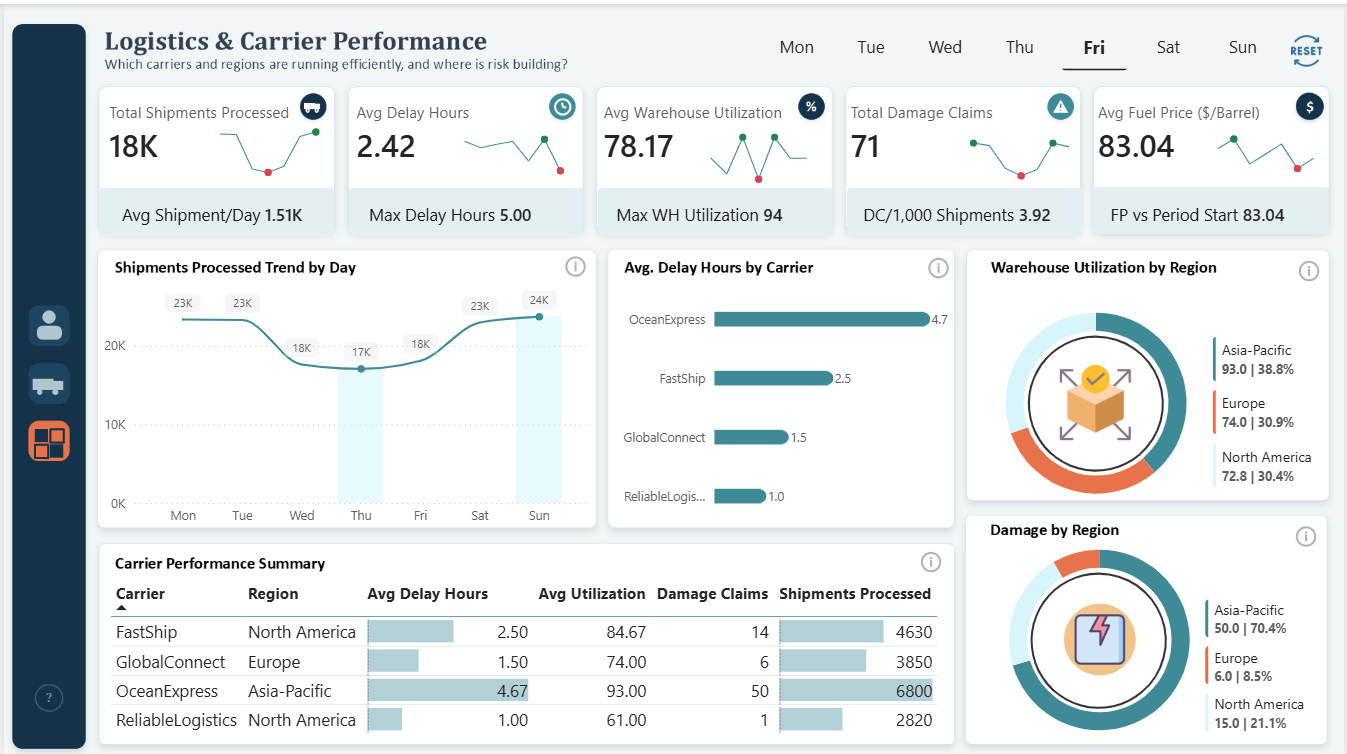

This screenshot's page, from the dashboard's own definition file:
{"tool":"powerbi","page":{"name":"Logistic","canvas":[1280,720],"ordinal":2},"visuals":[{"type":"cardVisual","fields":{"Data":["Measures_.Total Shipments Processed","Measures_.Avg Delay Hours","Measures_.Avg Warehouse Utilization %","Measures_.Total Damage Claims","Measures_.Avg Fuel Price ($/Barrel)"]},"box":[71.6,63.4,1208.5,206.6],"z":0},{"type":"lineClusteredColumnComboChart","fields":{"Category":["Calendar.WeekdayShort"],"Y":["select"],"Y2":["Measures_.Total Shipments Processed","select1"]},"box":[90.9,255.9,470.9,249.8],"z":1000},{"type":"clusteredBarChart","fields":{"Category":["Dim_Carrier.carrier"],"Y":["Measures_.Avg Delay Hours"]},"box":[573.9,243.8,364.9,277.1],"z":2000},{"type":"donutChart","fields":{"Category":["Dim_Region.region"],"Y":["Measures_.Avg Warehouse Utilization %"]},"box":[870.2,268.4,343.2,226.1],"z":3000,"group":"g1"},{"type":"advancedSlicerVisual","fields":{"Values":["Dim_Region.region"]},"box":[1148.3,312.3,128.5,156.1],"z":3000},{"type":"donutChart","fields":{"Category":["Dim_Region.region"],"Y":["Measures_.Total Damage Claims"]},"box":[873.7,494.4,343.7,225.6],"z":4000},{"type":"donutChart","fields":{"Category":["Dim_Region.region"],"Y":["Measures_.Avg Warehouse Utilization %"]},"box":[907.6,296.1,268.4,172.4],"z":5000,"group":"g1"},{"type":"tableEx","fields":{"Values":["Fact_LogisticsDaily.carrier","Fact_LogisticsDaily.region","Measures_.Avg Delay Hours","Measures_.Avg Warehouse Utilization %","Measures_.Total Damage Claims","Measures_.Total Shipments Processed"]},"box":[96,544.3,814.9,175.7],"z":5000},{"type":"donutChart","fields":{"Category":["Dim_Region.region"],"Y":["Measures_.Avg Warehouse Utilization %"]},"box":[911.6,520.9,268,172.6],"z":6000},{"type":"group","id":"g1","title":"Group 1","box":[870.2,268.4,343.2,226.1],"z":7000},{"type":"advancedSlicerVisual","fields":{"Values":["Dim_Region.region"]},"box":[1141.7,563.3,128.7,139.3],"z":8000},{"type":"actionButton","box":[870.7,517.9,33.3,28.8],"z":9000},{"type":"actionButton","box":[878.2,237.7,33.3,28.8],"z":10000},{"type":"actionButton","box":[1232.6,240.8,33.3,28.8],"z":11000},{"type":"actionButton","box":[1229,494.2,46.9,28.8],"z":12000},{"type":"actionButton","box":[531.5,236.2,33.3,28.8],"z":13000},{"type":"lineChart","fields":{"Category":["Calendar.WeekdayNumber"],"Y":["Measures_.Total Shipments Processed","select","select1"]},"box":[175.6,104.5,151.4,68.1],"z":14000},{"type":"lineChart","fields":{"Category":["Calendar.WeekdayNumber"],"Y":["Measures_.Avg Delay Hours","select","select1"]},"box":[410.3,109,151.4,68.1],"z":15000},{"type":"lineChart","fields":{"Category":["Calendar.WeekdayNumber"],"Y":["Measures_.Avg Warehouse Utilization %","select","select1"]},"box":[645.1,109,151.4,68.1],"z":16000},{"type":"lineChart","fields":{"Category":["Calendar.WeekdayNumber"],"Y":["Measures_.Total Damage Claims","select","select1"]},"box":[894.9,109,151.4,68.1],"z":17000},{"type":"lineChart","fields":{"Category":["Calendar.WeekdayNumber"],"Y":["Measures_.Avg Fuel Price ($/Barrel)","select","select1"]},"box":[1128.1,104.5,151.4,68.1],"z":18000},{"type":"advancedSlicerVisual","fields":{"Values":["Calendar.WeekdayShort"]},"box":[720.8,12.1,501.2,57.5],"z":19000},{"type":"actionButton","box":[1223.5,22.7,42.4,43.9],"z":20000},{"type":"pageNavigator","box":[16.7,280.1,51.5,162],"z":21000},{"type":"cardVisual","fields":{"Data":["Measures_.Base"]},"box":[869.2,514.8,33.3,33.3],"z":22000},{"type":"cardVisual","fields":{"Data":["Measures_.Base"]},"box":[530,234.7,33.3,33.3],"z":23000},{"type":"cardVisual","fields":{"Data":["Measures_.Base"]},"box":[875.2,234.7,33.3,33.3],"z":24000},{"type":"cardVisual","fields":{"Data":["Measures_.Base"]},"box":[1229.5,239.2,33.3,33.3],"z":25000},{"type":"image","box":[1000.3,330.2,84.6,99.2],"z":25001},{"type":"image","box":[1003.6,557.9,84.6,99.2],"z":25002}]}

Visuals, with their boxes on the page's 1280x720 design canvas (x1, y1, x2, y2). These are canvas units, not pixel positions in the 1347x754 screenshot, which may show the page scaled, cropped or inside an application window:
cardVisual - Measures_.Total Shipments Processed x Measures_.Avg Delay Hours: BBox(72, 63, 1280, 270)
lineClusteredColumnComboChart - Calendar.WeekdayShort x select: BBox(91, 256, 562, 506)
clusteredBarChart - Dim_Carrier.carrier x Measures_.Avg Delay Hours: BBox(574, 244, 939, 521)
donutChart - Dim_Region.region x Measures_.Avg Warehouse Utilization %: BBox(870, 268, 1213, 494)
advancedSlicerVisual - Dim_Region.region: BBox(1148, 312, 1277, 468)
donutChart - Dim_Region.region x Measures_.Total Damage Claims: BBox(874, 494, 1217, 720)
donutChart - Dim_Region.region x Measures_.Avg Warehouse Utilization %: BBox(908, 296, 1176, 468)
tableEx - Fact_LogisticsDaily.carrier x Fact_LogisticsDaily.region: BBox(96, 544, 911, 720)
donutChart - Dim_Region.region x Measures_.Avg Warehouse Utilization %: BBox(912, 521, 1180, 694)
"Group 1" group: BBox(870, 268, 1213, 494)
advancedSlicerVisual - Dim_Region.region: BBox(1142, 563, 1270, 703)
actionButton: BBox(871, 518, 904, 547)
actionButton: BBox(878, 238, 912, 266)
actionButton: BBox(1233, 241, 1266, 270)
actionButton: BBox(1229, 494, 1276, 523)
actionButton: BBox(532, 236, 565, 265)
lineChart - Calendar.WeekdayNumber x Measures_.Total Shipments Processed: BBox(176, 104, 327, 173)
lineChart - Calendar.WeekdayNumber x Measures_.Avg Delay Hours: BBox(410, 109, 562, 177)
lineChart - Calendar.WeekdayNumber x Measures_.Avg Warehouse Utilization %: BBox(645, 109, 796, 177)
lineChart - Calendar.WeekdayNumber x Measures_.Total Damage Claims: BBox(895, 109, 1046, 177)
lineChart - Calendar.WeekdayNumber x Measures_.Avg Fuel Price ($/Barrel): BBox(1128, 104, 1280, 173)
advancedSlicerVisual - Calendar.WeekdayShort: BBox(721, 12, 1222, 70)
actionButton: BBox(1224, 23, 1266, 67)
pageNavigator: BBox(17, 280, 68, 442)
cardVisual - Measures_.Base: BBox(869, 515, 902, 548)
cardVisual - Measures_.Base: BBox(530, 235, 563, 268)
cardVisual - Measures_.Base: BBox(875, 235, 908, 268)
cardVisual - Measures_.Base: BBox(1230, 239, 1263, 272)
image: BBox(1000, 330, 1085, 429)
image: BBox(1004, 558, 1088, 657)
